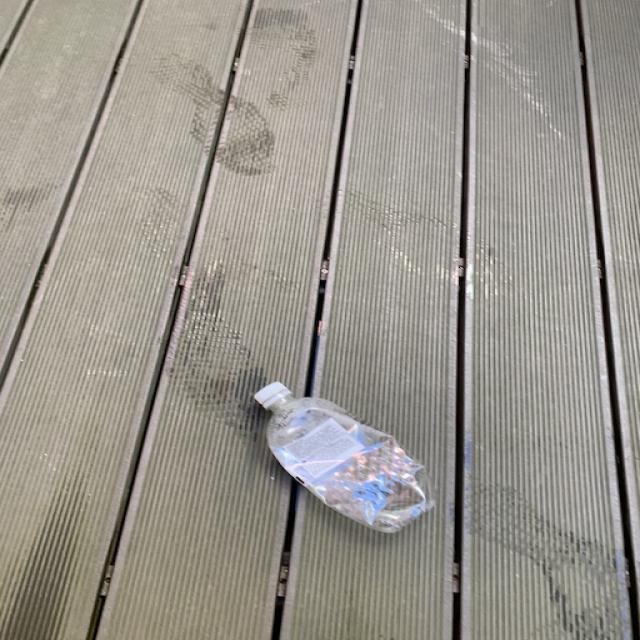Waste: (254, 382, 434, 534)
